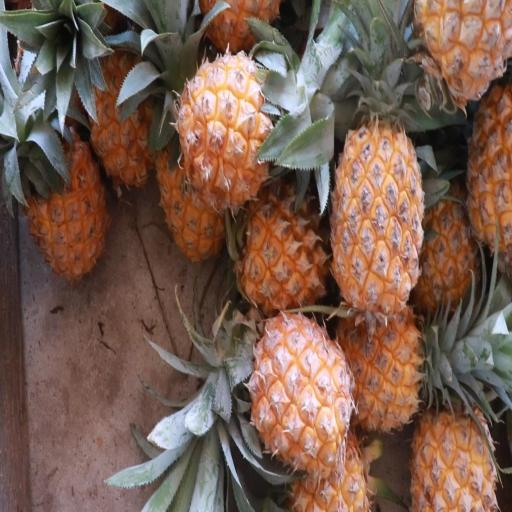Pineapple - v8 v1: (330, 92, 426, 324), (12, 99, 115, 286), (250, 306, 359, 479), (169, 45, 274, 216), (232, 172, 331, 317), (79, 33, 158, 202), (335, 294, 428, 436), (408, 372, 500, 512), (457, 81, 512, 268), (285, 416, 375, 512)
